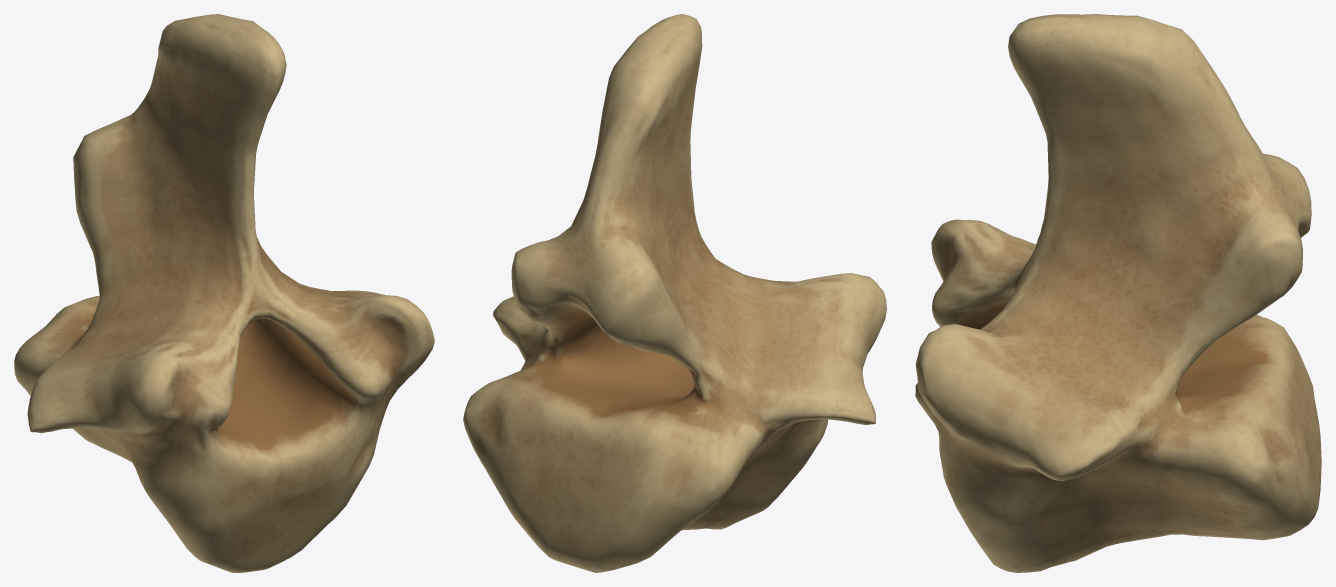
3 renders of one model, left to right at view 1: azimuth 30°, elevation 25°; view 2: azimuth 150°, elevation 25°; view 3: azimuth 270°, elevation 25°, orthographic. The views are drawn at different scales.
Visible parts, largest first — view 1: Group34066.001; view 2: Group34066.001; view 3: Group34066.001.
Part boxes in pixels (left/top/right/bottom): Group34066.001: left=14, top=14, right=434, bottom=572; Group34066.001: left=463, top=14, right=886, bottom=572; Group34066.001: left=915, top=14, right=1321, bottom=572.
Size of the model in its own units: 52.63 by 66.88 by 43.89.
Materials: 1 (1 with a texture image).
